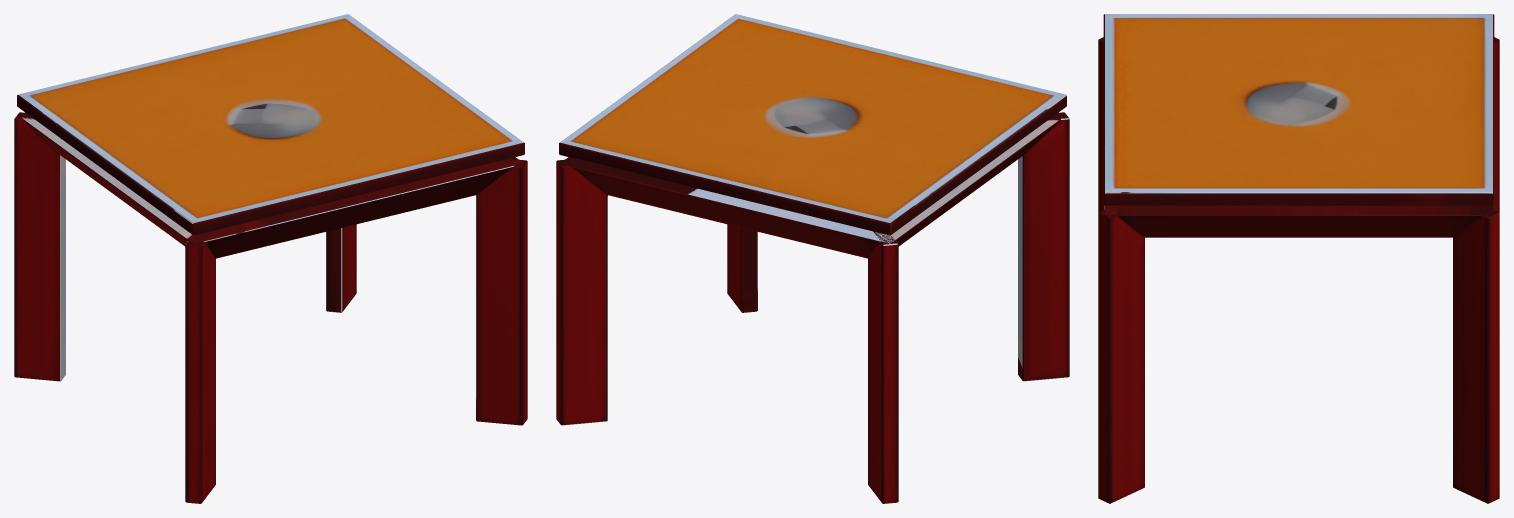
The model's file is edited_mesh.glb.
The picture shows the model from 3 angles, left to right: view 1: azimuth 30°, elevation 25°; view 2: azimuth 150°, elevation 25°; view 3: azimuth 270°, elevation 25°; orthographic projection. The views are drawn at different scales.
Visible parts, largest first — view 1: solid_001_wire; view 2: solid_001_wire; view 3: solid_001_wire.
Part boxes in pixels (x1,y1,x2,y2): solid_001_wire: (14,14,527,503); solid_001_wire: (556,14,1069,503); solid_001_wire: (1098,14,1499,503).
Bounding box in the file's own units: 1.56 × 1.22 × 1.44.
1 material, 1 textured.
